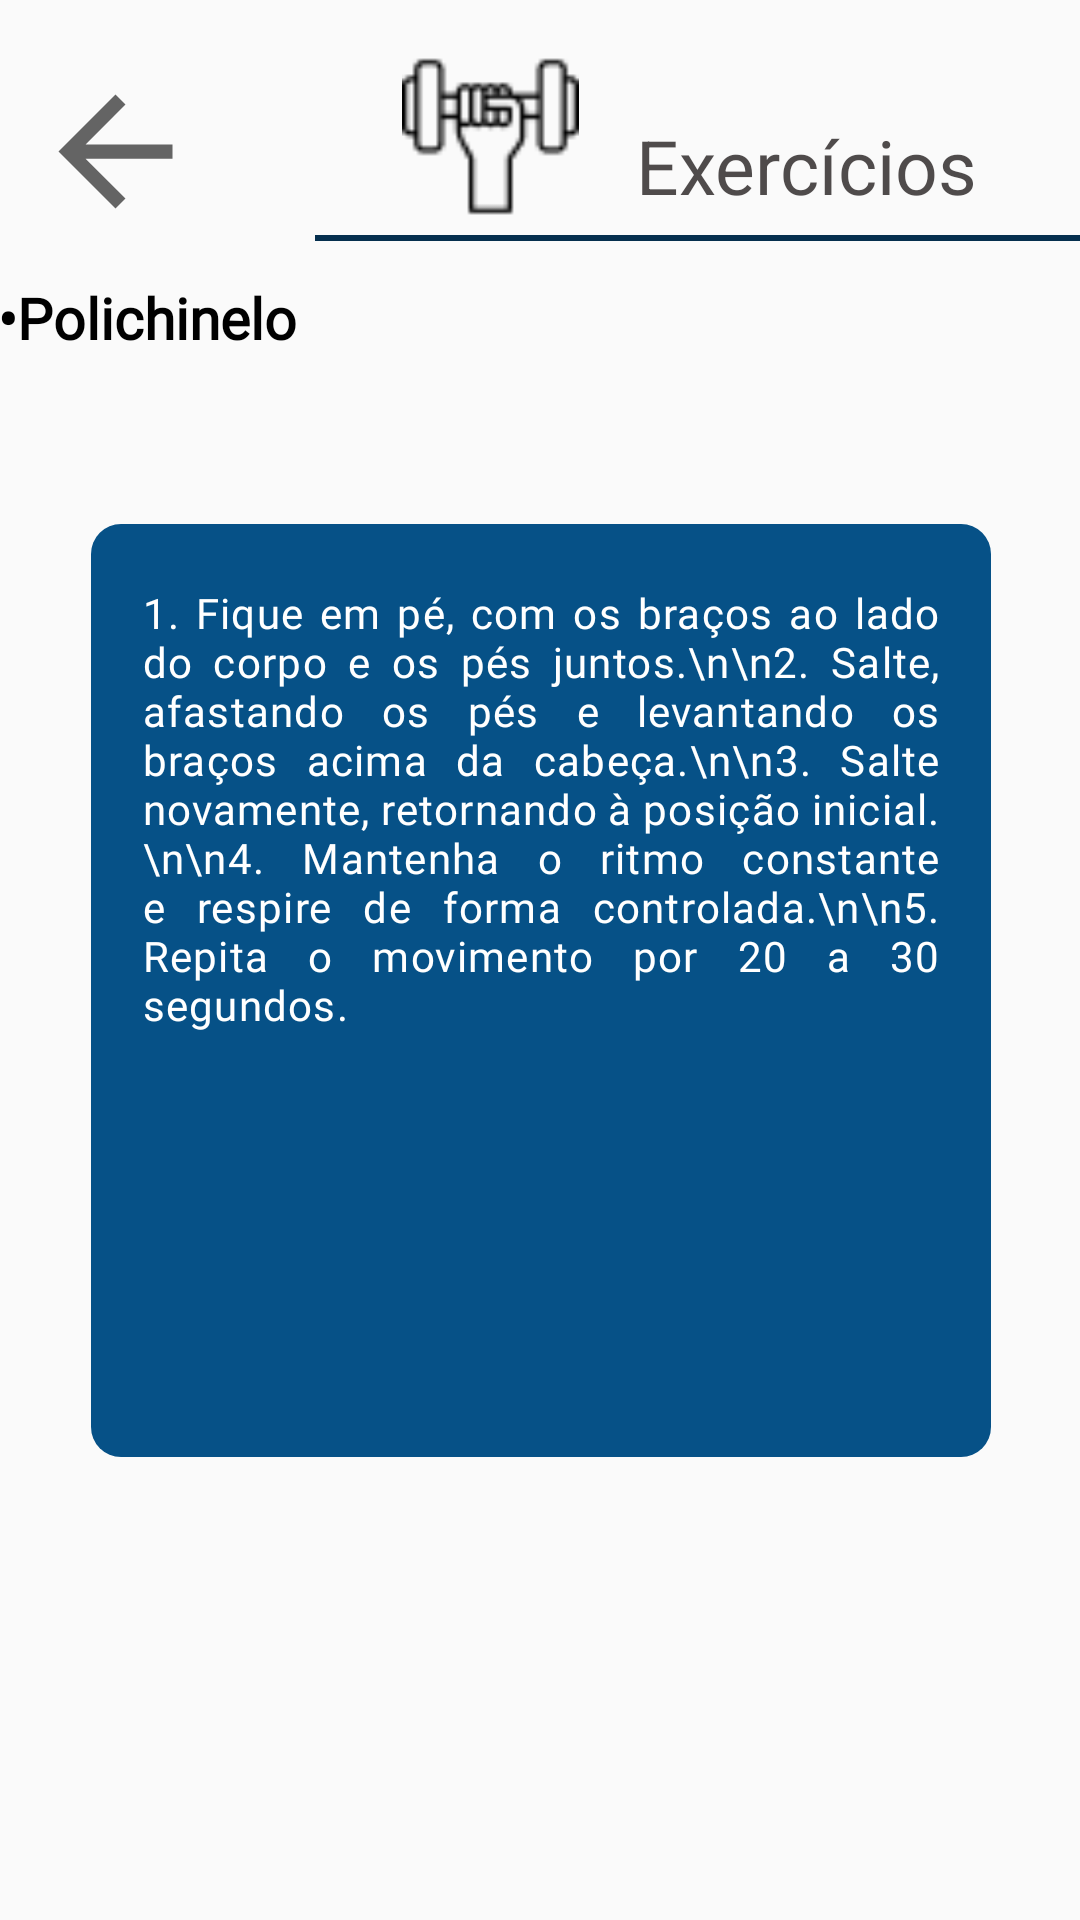

Named icons in this screenshot (1080px×1920px) and their bounding boxes, (x1,y1,x2,y2):
exercicios: (402,58,579,215)
